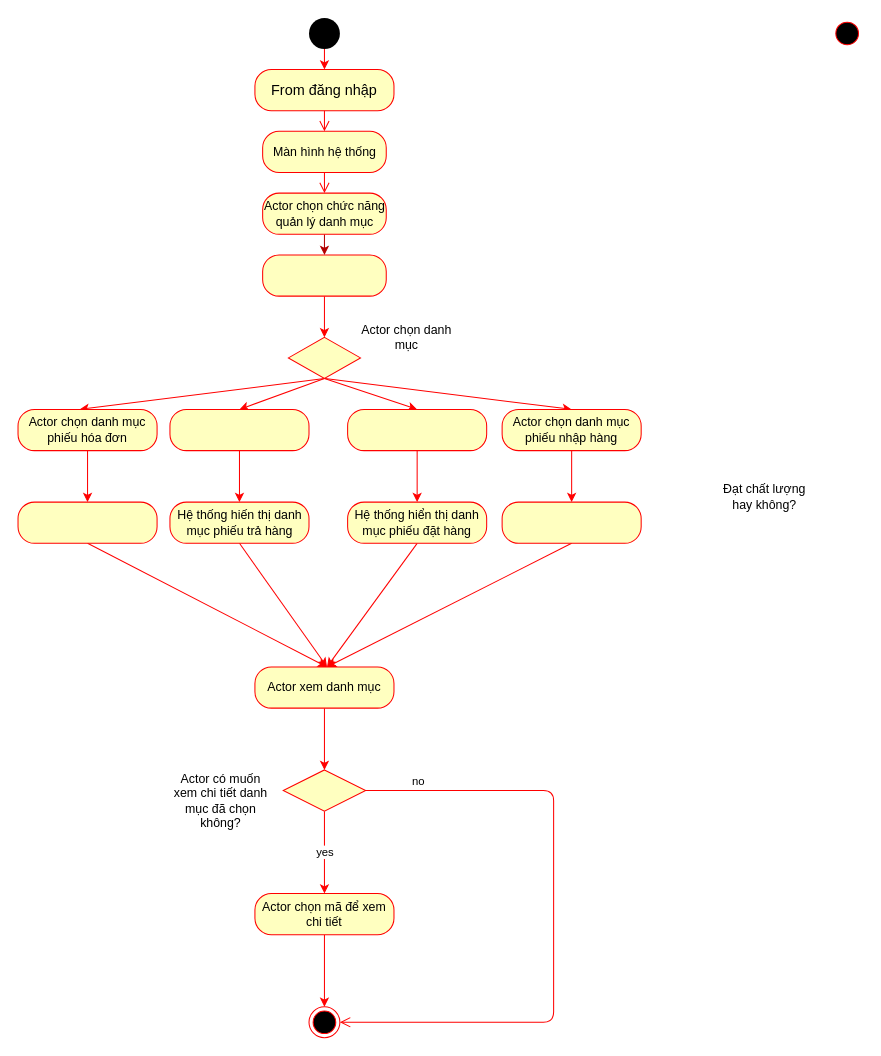
Image size: 881x1056. Some labels were removed from this diagram. The centre of each missing label's shape, as x and y in pixels:
"Actor chọn danh mục phiếu trả hàng" belongs at (239,429).
"Actor chọn danh mục phiếu đặt hàng" belongs at (417,429).
"Giao diện quản lý danh mục" belongs at (324,275).
"Hệ thống hiển thị danh mục phiếu hóa đơn" belongs at (87,522).
"Hệ thống hiển thị danh mục phiếu nhập hàng" belongs at (571,522).
